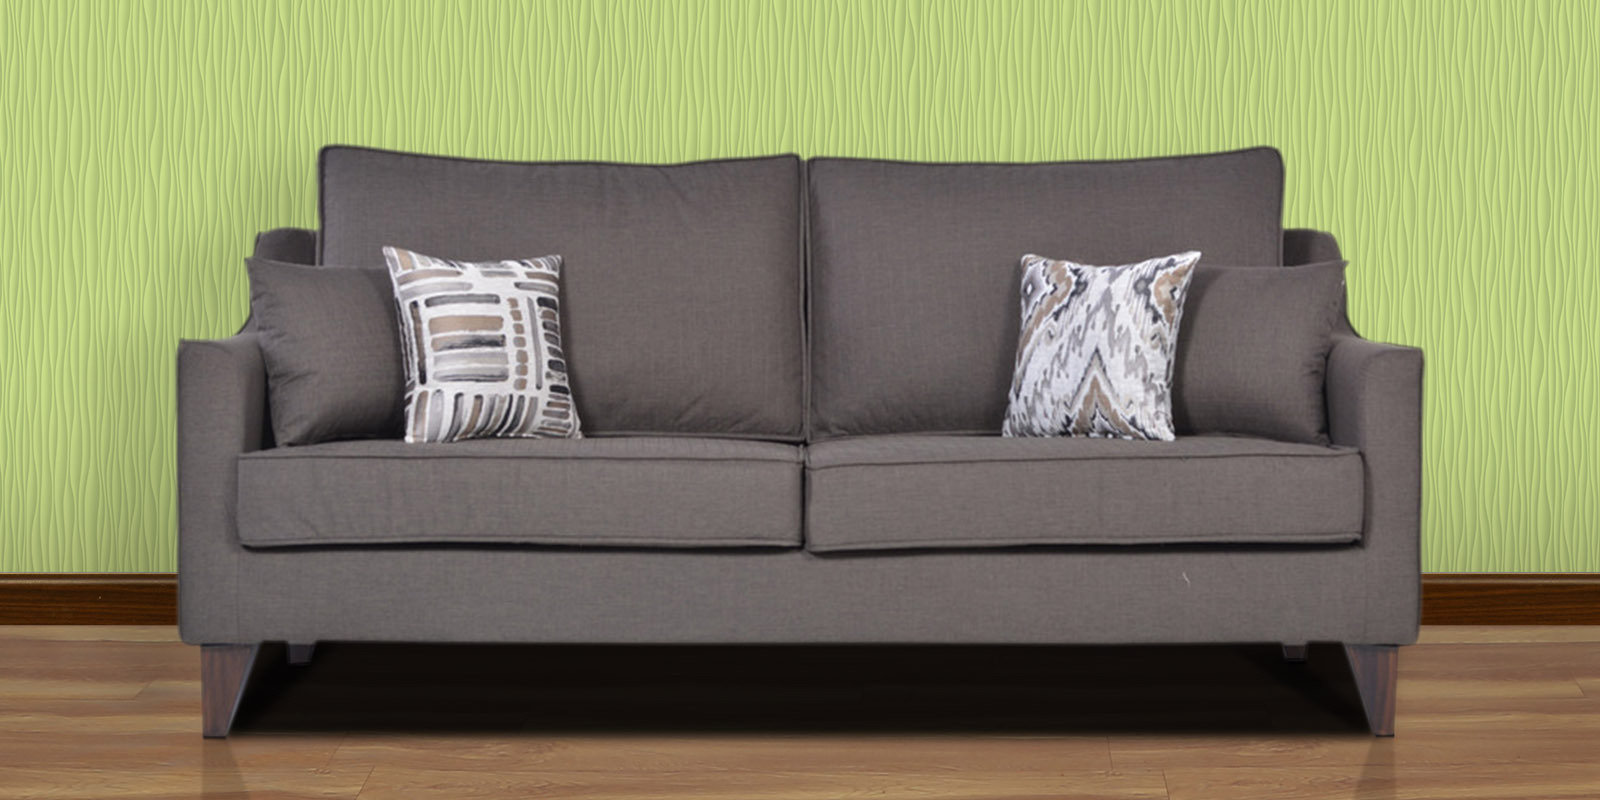Ithaca Impulse Three Seater Sofa with Throw Cushions in Charcoal Grey Colour by: (147, 116, 1455, 756)
